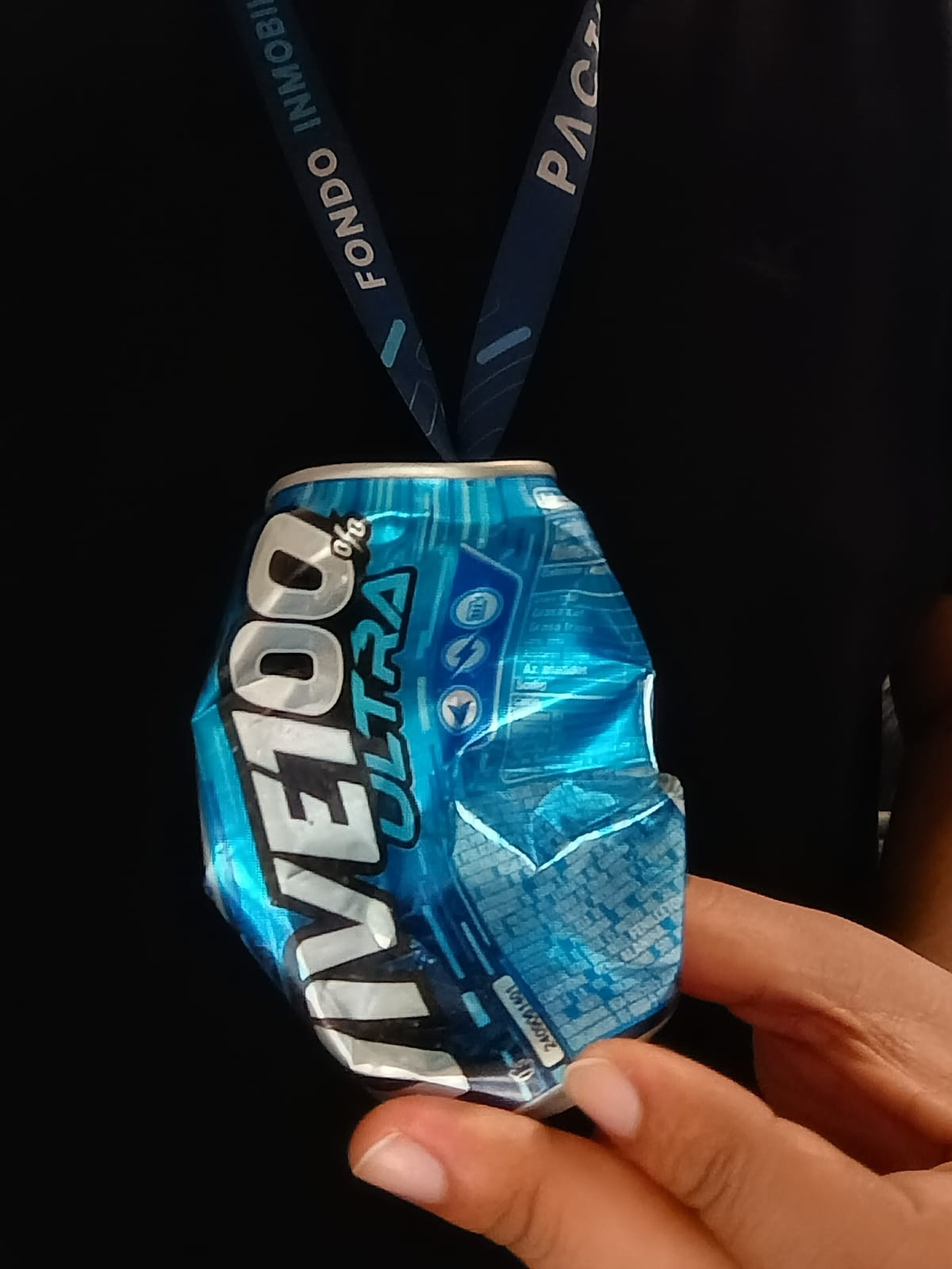Metal: (195, 458, 690, 1119)
